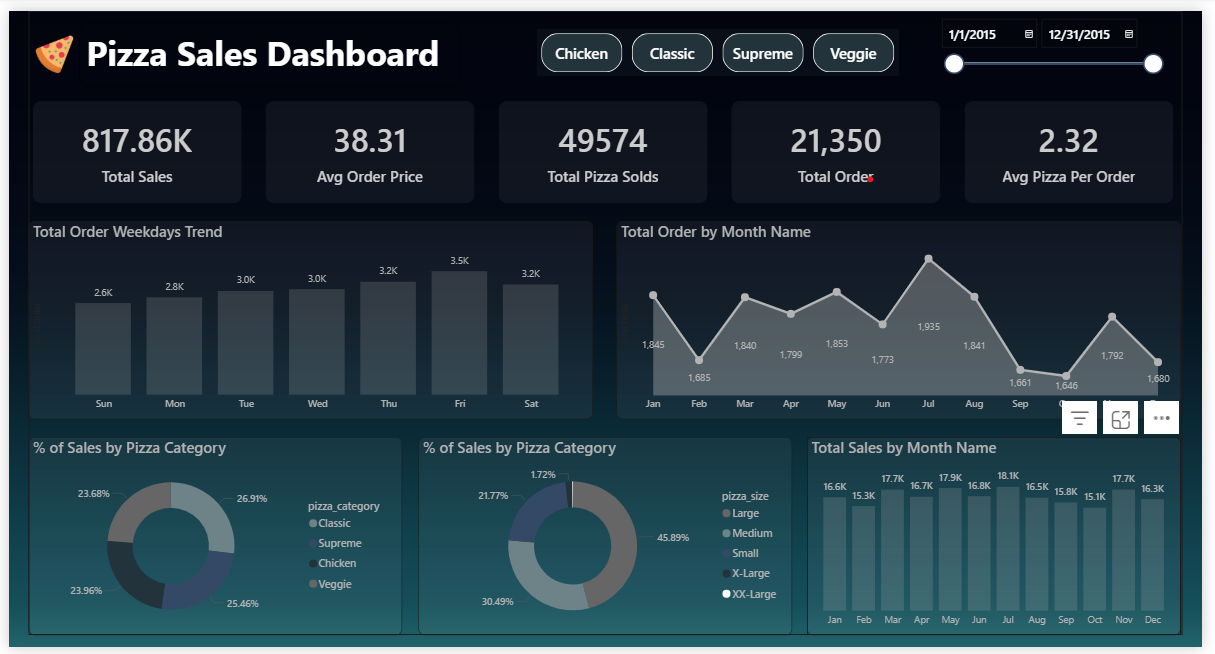

Layout of this report page (visuals, bound fields, positions):
{"tool":"powerbi","page":{"name":"Pizza Sales Dashboard","canvas":[1500,800],"ordinal":0},"visuals":[{"type":"cardVisual","fields":{"Data":["pizza_sales.Total Sales","pizza_sales.Avg Order Price","pizza_sales.Total Pizza Solds","pizza_sales.Total Order","pizza_sales.Avg Pizza Price"]},"box":[25.3,106.6,1449.4,139.2],"z":0,"group":"g2"},{"type":"columnChart","title":"Total Order Weekdays Trend","fields":{"Category":["Date Table.Weekday"],"Y":["pizza_sales.Total Order"]},"box":[25.3,263.9,710.3,249.4],"z":1000,"group":"g2"},{"type":"stackedAreaChart","fields":{"Category":["Date Table.Month Name"],"Y":["pizza_sales.Total Order"]},"box":[764.5,263.9,710.3,249.4],"z":2000,"group":"g2"},{"type":"donutChart","title":"% of Sales by Pizza Category","fields":{"Category":["pizza_sales.pizza_category"],"Y":["pizza_sales.Total Sales"]},"box":[25.3,535,470,249.4],"z":3000,"group":"g2"},{"type":"columnChart","fields":{"Category":["Date Table.Month Name"],"Y":["pizza_sales.Total Sales"]},"box":[1004.9,535,469.9,249.4],"z":4000,"group":"g2"},{"type":"donutChart","title":"% of Sales by Pizza Category","fields":{"Category":["pizza_sales.pizza_size"],"Y":["pizza_sales.Total Sales"]},"box":[515.1,535,469.9,249.4],"z":5000,"group":"g2"},{"type":"textbox","box":[90,14.2,478.1,79.9],"z":6000,"group":"g1"},{"type":"advancedSlicerVisual","fields":{"Values":["pizza_sales.pizza_category"]},"box":[665.1,23.5,455.4,59.6],"z":7000,"group":"g2"},{"type":"slicer","fields":{"Values":["Date Table.Date"]},"box":[1160.3,0,300,90.4],"z":8000,"group":"g2"},{"type":"image","box":[25.3,24.3,64.7,59.6],"z":9000,"group":"g1"},{"type":"group","id":"g1","title":"Group 1","box":[25.3,14.2,542.8,79.9],"z":10001,"group":"g2"},{"type":"group","id":"g2","title":"Group 2","box":[25.3,0,1449.5,784.4],"z":10002}]}

Visuals, with their boxes in screenshot pixels (x1, y1, x2, y2), scaled from the page's 1500x800 canvas onto the 1215x654 screenshot:
cardVisual - pizza_sales.Total Sales x pizza_sales.Avg Order Price: x1=20 y1=87 x2=1195 y2=201
"Total Order Weekdays Trend" columnChart: x1=20 y1=216 x2=596 y2=420
stackedAreaChart - Date Table.Month Name x pizza_sales.Total Order: x1=619 y1=216 x2=1195 y2=420
"% of Sales by Pizza Category" donutChart: x1=20 y1=437 x2=401 y2=641
columnChart - Date Table.Month Name x pizza_sales.Total Sales: x1=814 y1=437 x2=1195 y2=641
"% of Sales by Pizza Category" donutChart: x1=417 y1=437 x2=798 y2=641
textbox: x1=73 y1=12 x2=460 y2=77
advancedSlicerVisual - pizza_sales.pizza_category: x1=539 y1=19 x2=908 y2=68
slicer - Date Table.Date: x1=940 y1=0 x2=1183 y2=74
image: x1=20 y1=20 x2=73 y2=69
"Group 1" group: x1=20 y1=12 x2=460 y2=77
"Group 2" group: x1=20 y1=0 x2=1195 y2=641
